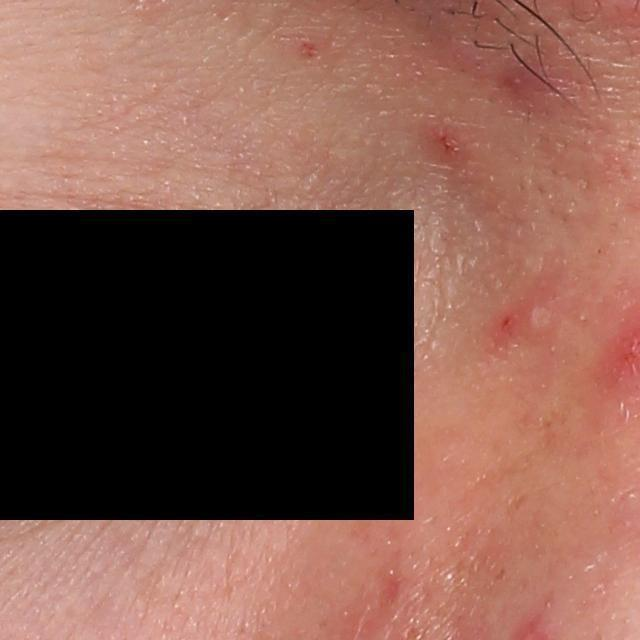papule: (493, 297, 543, 345), (421, 120, 470, 165)
